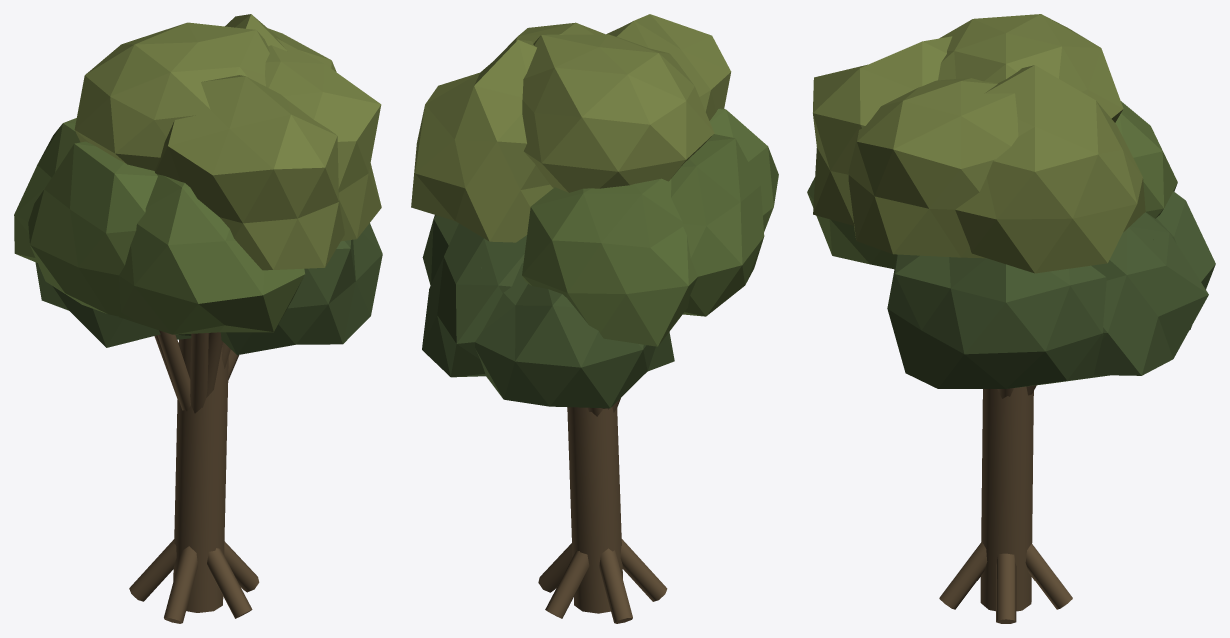
File: tree-broadleaf.glb
The picture shows the model from 3 angles, left to right: view 1: azimuth 30°, elevation 25°; view 2: azimuth 150°, elevation 25°; view 3: azimuth 270°, elevation 25°; orthographic projection. The views are drawn at different scales.
Parts seen in each view (by area): view 1: Foliage sun, Foliage middle, Bark, Foliage shadow; view 2: Foliage sun, Foliage middle, Foliage shadow, Bark; view 3: Foliage sun, Foliage shadow, Bark, Foliage middle.
Part boxes in pixels (x1=…): Foliage sun: x1=74, y1=14, x2=381, y2=270; Foliage middle: x1=14, y1=118, x2=304, y2=334; Bark: x1=129, y1=330, x2=259, y2=623; Foliage shadow: x1=35, y1=223, x2=382, y2=355; Foliage sun: x1=411, y1=14, x2=731, y2=242; Foliage middle: x1=522, y1=108, x2=778, y2=346; Foliage shadow: x1=422, y1=215, x2=674, y2=408; Bark: x1=538, y1=398, x2=667, y2=623; Foliage sun: x1=813, y1=14, x2=1145, y2=273; Foliage shadow: x1=887, y1=191, x2=1215, y2=388; Bark: x1=939, y1=385, x2=1072, y2=623; Foliage middle: x1=807, y1=101, x2=1177, y2=269.
Bounding box in the file's own units: 2.9 × 4.86 × 3.16.
